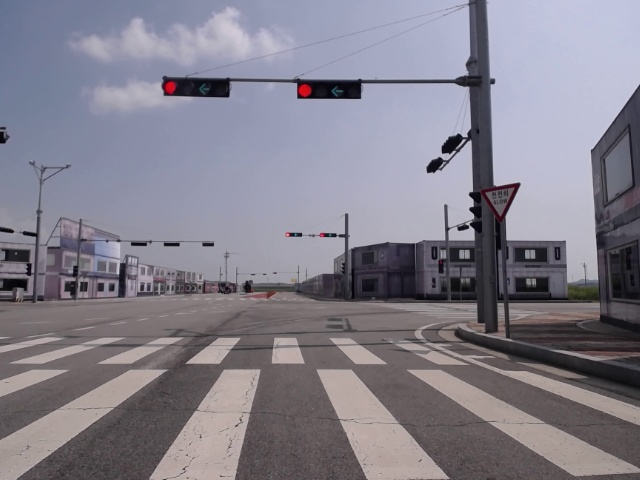left_green_4: (163, 79, 228, 97), (297, 81, 360, 99)
